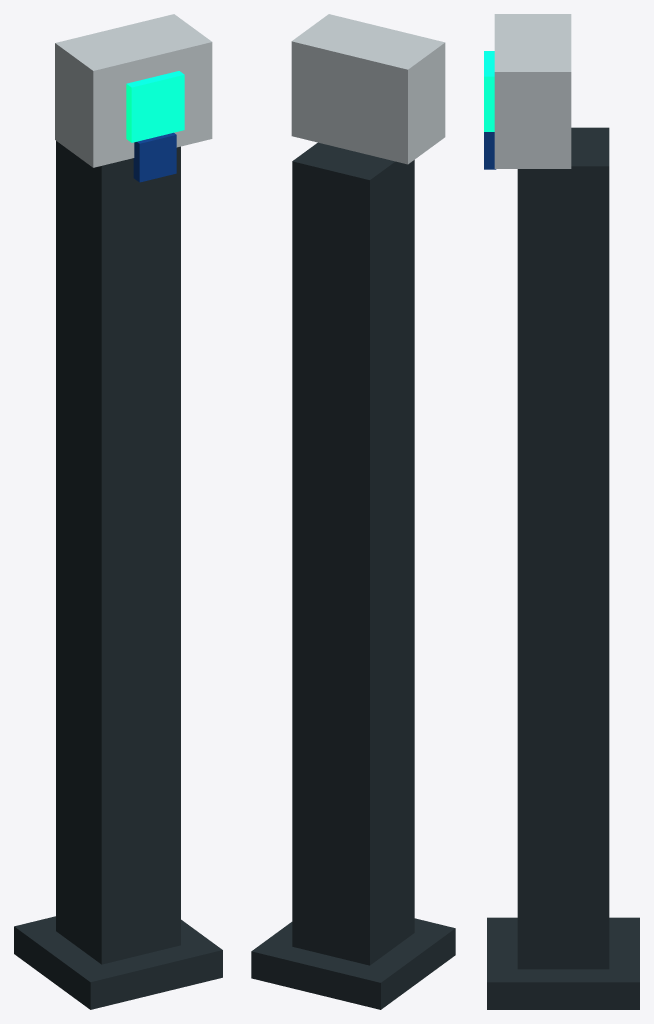
File: doorsensor.glb
3 renders of one model, left to right at view 1: azimuth 30°, elevation 25°; view 2: azimuth 150°, elevation 25°; view 3: azimuth 270°, elevation 25°, orthographic. The views are drawn at different scales.
Visible parts, largest first — view 1: Post, Housing, Base, LED, Lens; view 2: Post, Housing, Base; view 3: Post, Housing, Base, LED, Lens.
Boxes of the visible parts, left/top/right/bottom form: Post: left=56, top=141, right=180, bottom=964; Housing: left=55, top=14, right=212, bottom=167; Base: left=14, top=916, right=222, bottom=1009; LED: left=126, top=71, right=184, bottom=142; Lens: left=133, top=132, right=176, bottom=182; Post: left=292, top=142, right=414, bottom=965; Housing: left=291, top=14, right=445, bottom=164; Base: left=251, top=918, right=455, bottom=1009; Post: left=517, top=127, right=609, bottom=969; Housing: left=494, top=14, right=571, bottom=168; Base: left=487, top=917, right=639, bottom=1009; LED: left=484, top=51, right=494, bottom=131; Lens: left=484, top=132, right=496, bottom=169.
Size of the model in its own units: 0.5 by 3.38 by 0.51.
